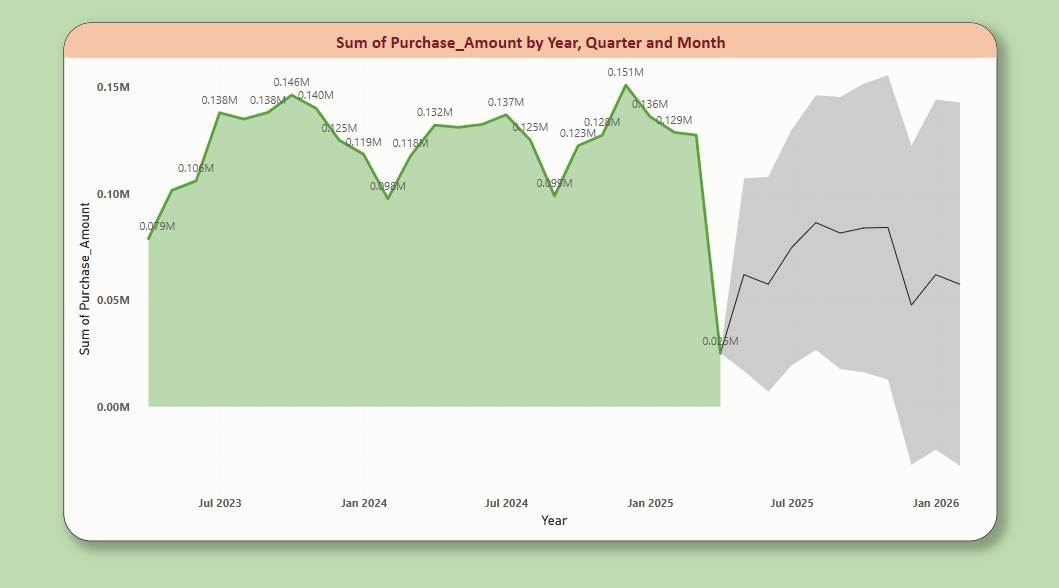

This screenshot's page, from the dashboard's own definition file:
{"tool":"powerbi","page":{"name":"Forcasting","canvas":[1280,720],"ordinal":2},"visuals":[{"type":"lineChart","fields":{"Y":["Sum(Sheet1.Purchase_Amount)"],"Category":["Sheet1.Purchase_Date.Variation.Date Hierarchy.Year","Sheet1.Purchase_Date.Variation.Date Hierarchy.Quarter","Sheet1.Purchase_Date.Variation.Date Hierarchy.Month","Sheet1.Purchase_Date.Variation.Date Hierarchy.Day"]},"box":[128,80,1008,560],"z":0}]}

Visuals, with their boxes in screenshot pixels (x1, y1, x2, y2), scaled from the page's 1280x720 canvas onto the 1059x588 screenshot:
lineChart - Sum(Sheet1.Purchase_Amount) x Sheet1.Purchase_Date.Variation.Date Hierarchy.Year: (106, 65, 940, 523)
